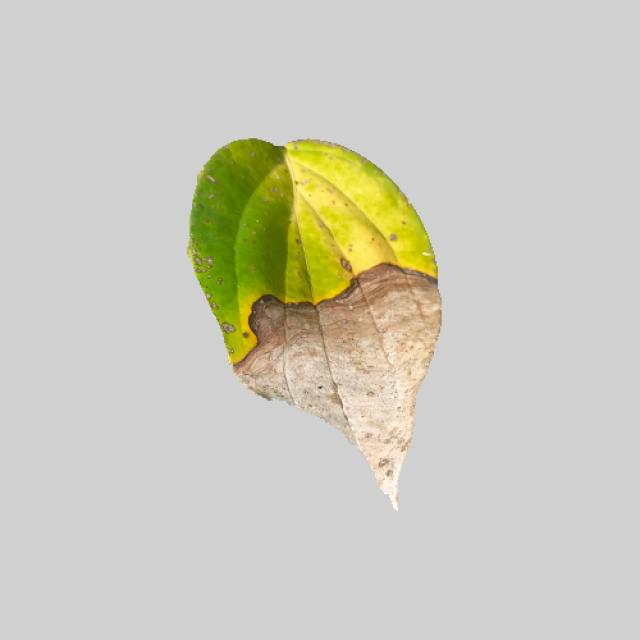leaf-blight: (168, 131, 442, 512)
